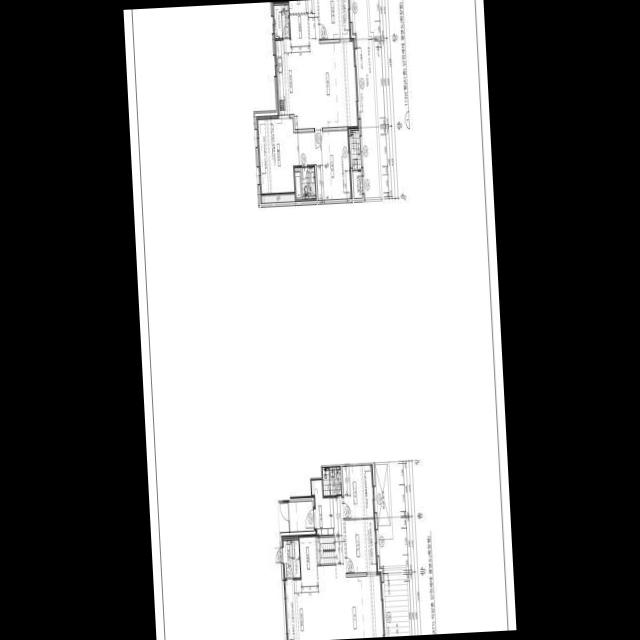background: (123, 0, 517, 640)
space_balconi: (351, 130, 361, 169)
space_bedroom: (294, 130, 353, 200), (345, 519, 378, 573), (342, 464, 375, 518), (319, 0, 351, 39)
space_dressroom: (256, 115, 295, 193)
space_front: (311, 479, 334, 536), (288, 0, 309, 13)
space_kitchen: (286, 565, 340, 640), (274, 38, 314, 128)
space_living_room: (333, 497, 383, 639), (308, 0, 359, 128)
space_multipurpose_space: (282, 540, 300, 578), (272, 4, 290, 38)
space_other: (299, 534, 317, 579), (289, 500, 314, 531), (290, 14, 309, 39), (260, 194, 295, 203)
space_outdoor_room: (353, 171, 363, 198)
space_staircase: (316, 536, 336, 564)
space_toilet: (294, 166, 316, 199), (322, 466, 342, 495)
